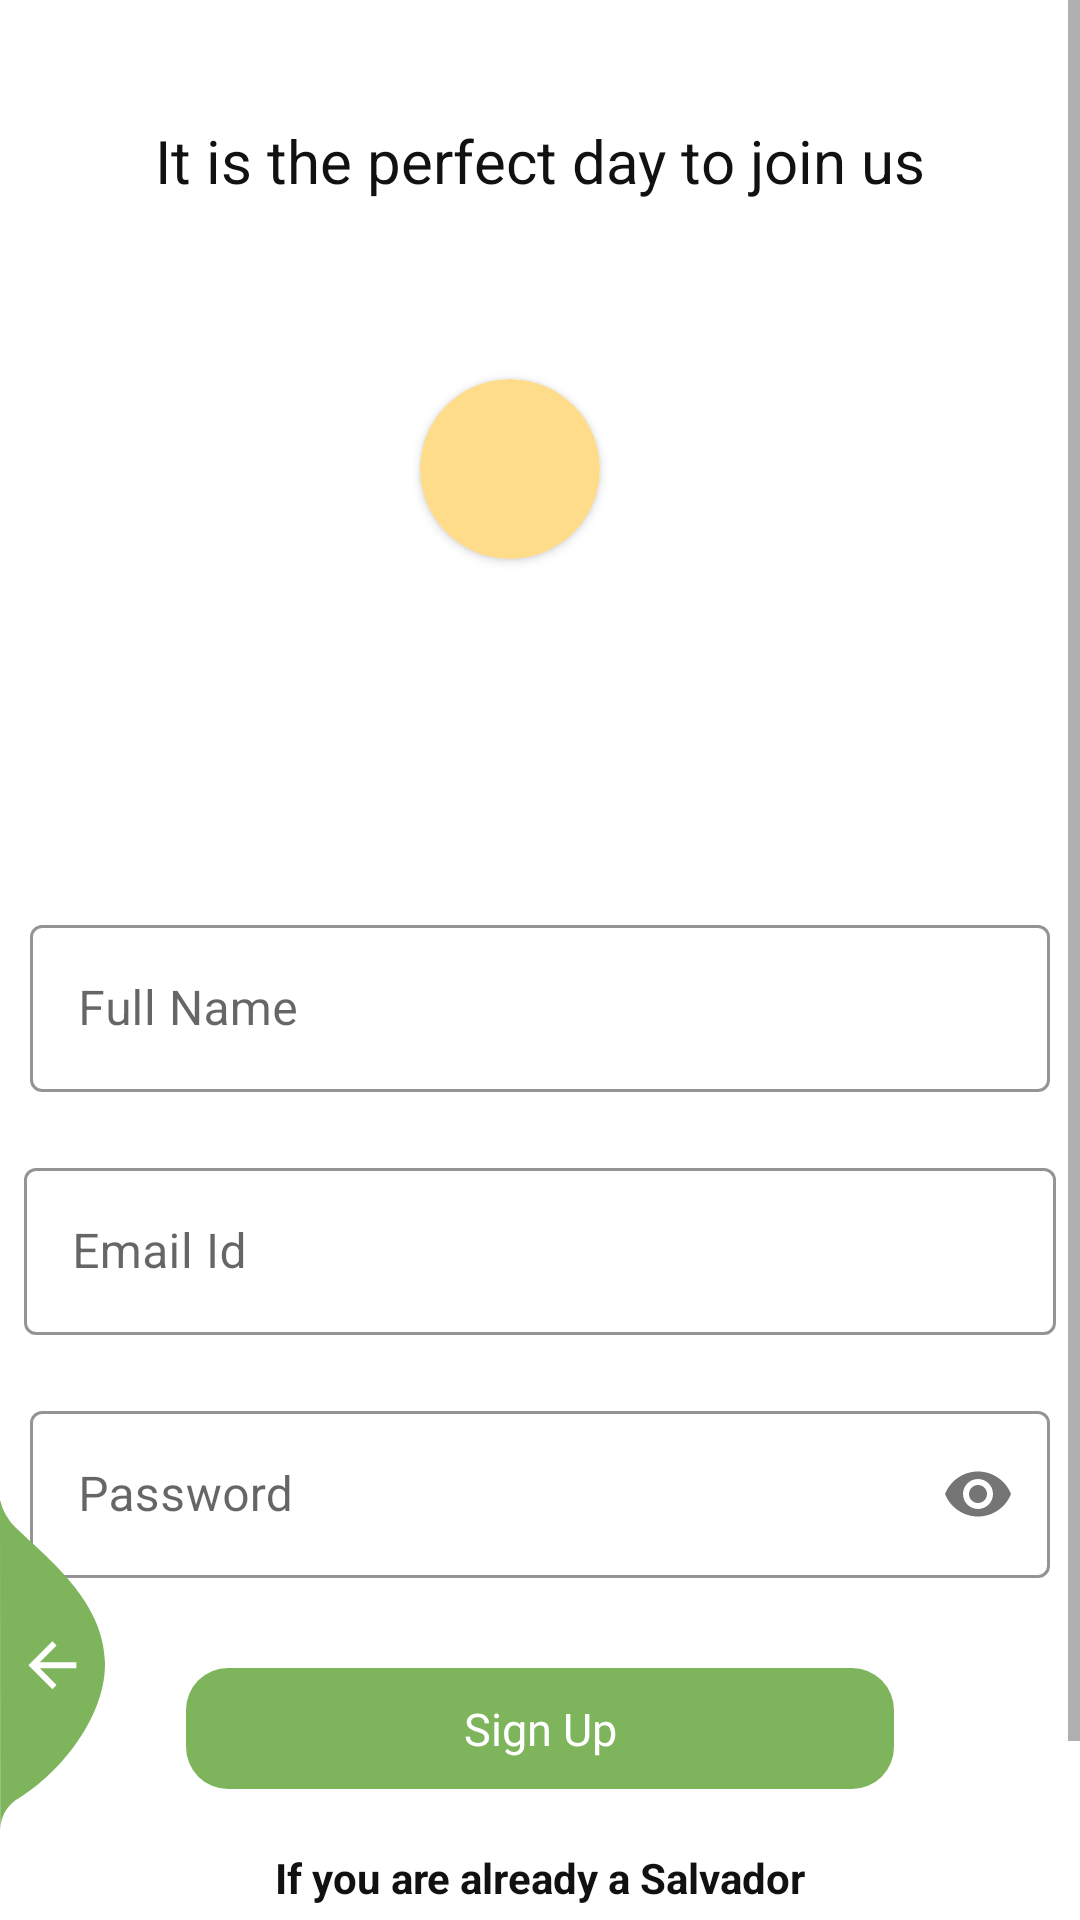

Icons on this 1080 × 1920 Android screen, each with the point to tap as [x,y]:
back: [52,1664]
